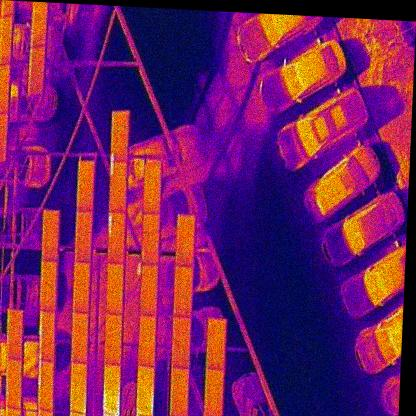Diode: (106, 212, 126, 264), (108, 162, 128, 213), (136, 365, 156, 416), (111, 111, 130, 163), (102, 364, 121, 416), (36, 361, 55, 413), (38, 311, 55, 362)
Normal: (75, 160, 96, 212), (173, 266, 194, 318), (171, 318, 192, 370), (205, 319, 227, 368), (175, 216, 196, 267), (203, 368, 225, 416), (142, 162, 162, 214), (141, 213, 160, 266), (73, 212, 92, 264), (41, 210, 60, 262), (139, 264, 158, 316), (105, 263, 124, 315), (169, 369, 190, 416), (103, 313, 121, 365), (137, 315, 155, 367), (72, 262, 90, 313), (39, 261, 57, 312), (4, 358, 22, 409), (69, 364, 87, 414), (71, 312, 88, 364), (5, 310, 23, 359), (0, 14, 13, 66), (0, 63, 10, 115), (0, 112, 8, 163)
